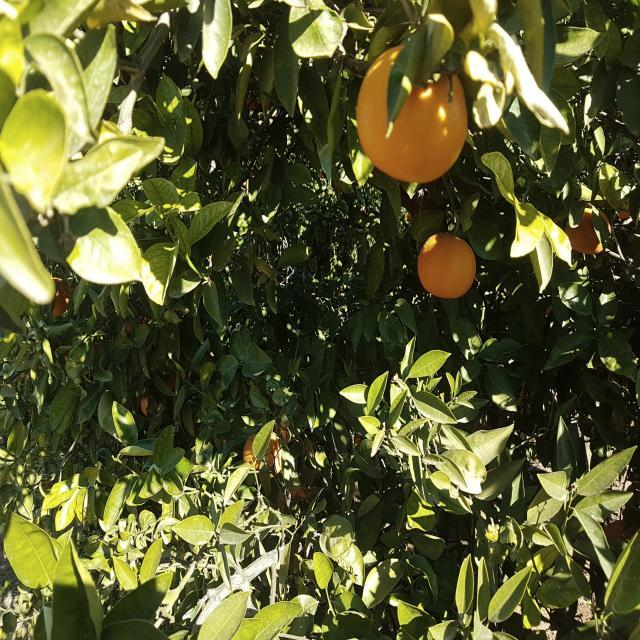Jeruk Sudah Matang: (354, 38, 469, 186), (415, 228, 480, 298), (563, 206, 612, 258), (244, 433, 285, 478), (45, 276, 70, 317), (141, 388, 166, 416), (618, 195, 634, 223), (292, 480, 310, 502), (126, 317, 147, 332), (278, 426, 292, 446), (179, 307, 185, 316)
